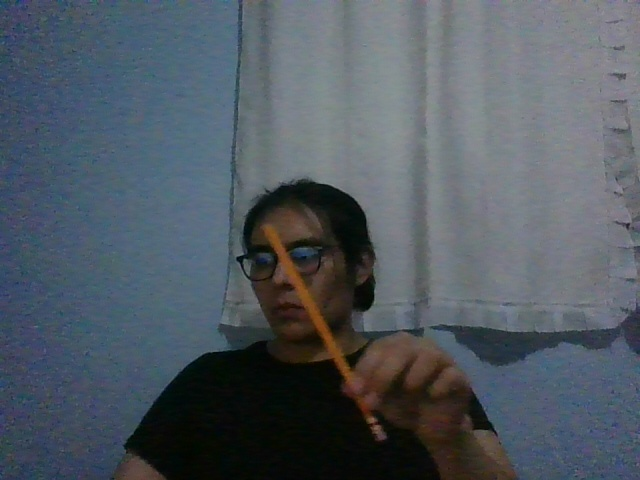lapiz: (261, 223, 388, 442)
